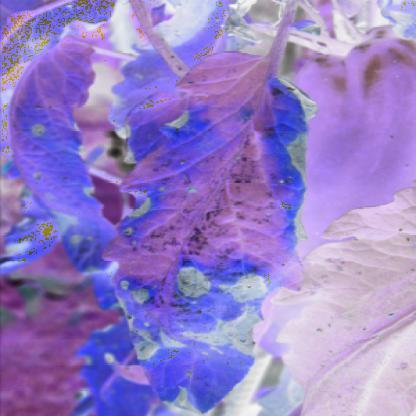Potato leaf late blight: (110, 48, 320, 411)
